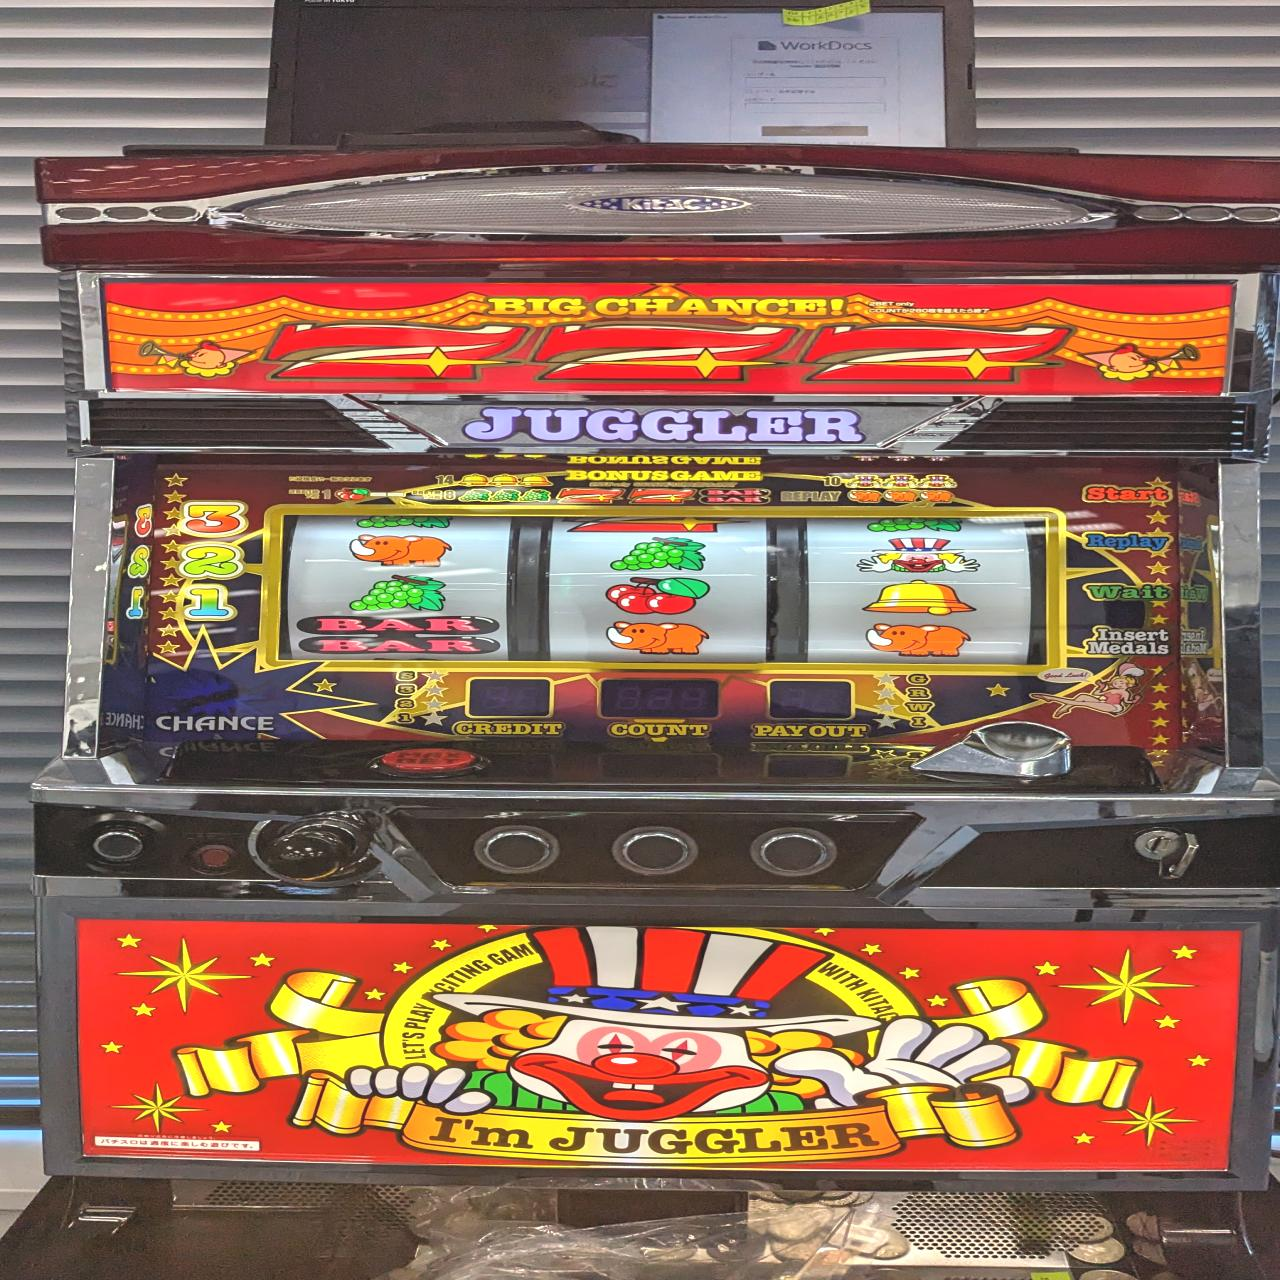8: (342, 533, 450, 568), (866, 624, 973, 658), (601, 621, 710, 654)
Display: (265, 506, 1057, 673)
bar: (298, 615, 503, 654)
bell: (859, 579, 975, 617)
cherry: (600, 576, 713, 615)
clown: (856, 536, 982, 577)
grape: (350, 574, 452, 612), (612, 536, 710, 573)
